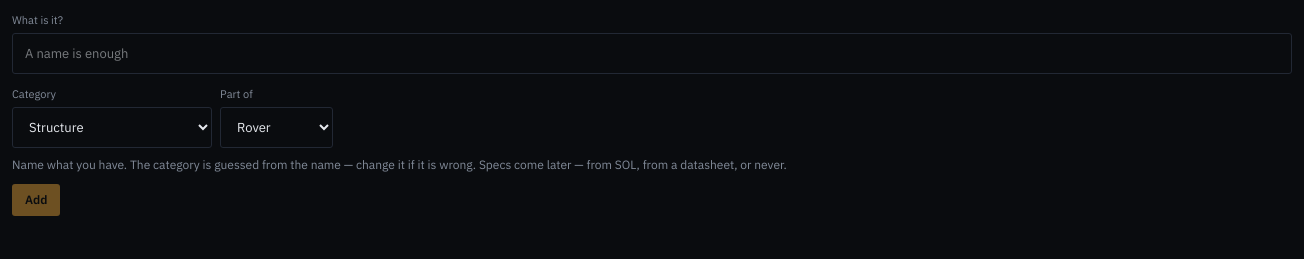
Scenario: shows the failure verbatim and keeps the draft
Type "pump" into the field labelled "What is it?" at (652, 53), box [12, 32, 1292, 74]
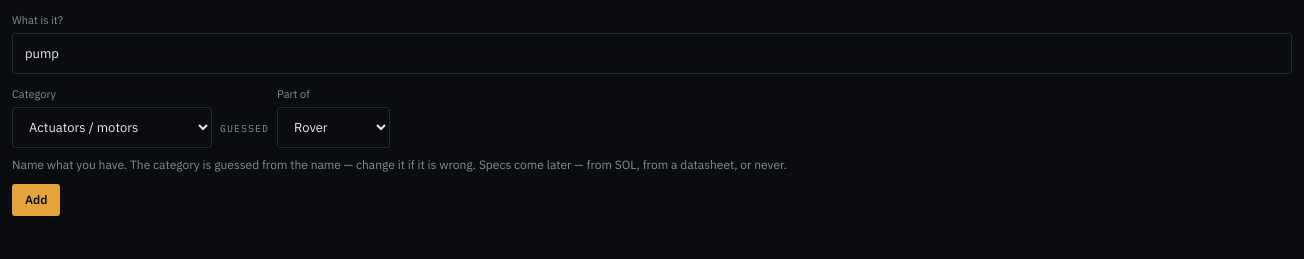
Click the button "Add" at (36, 200), box [12, 184, 60, 216]
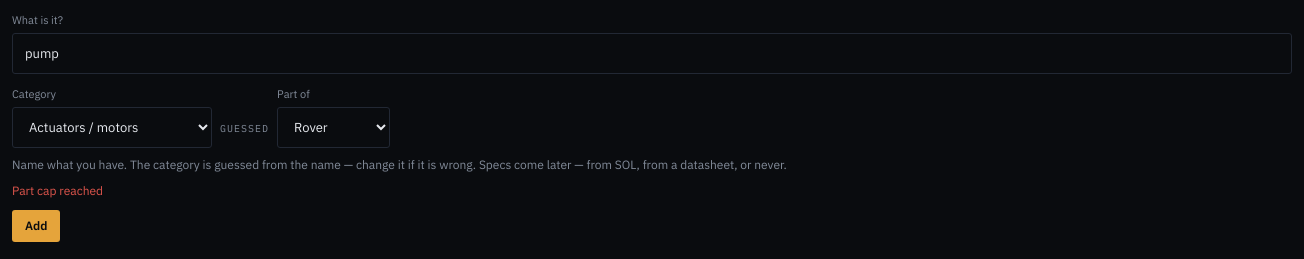
Expected: the message reads "Part cap reached", [12, 182, 103, 198]
